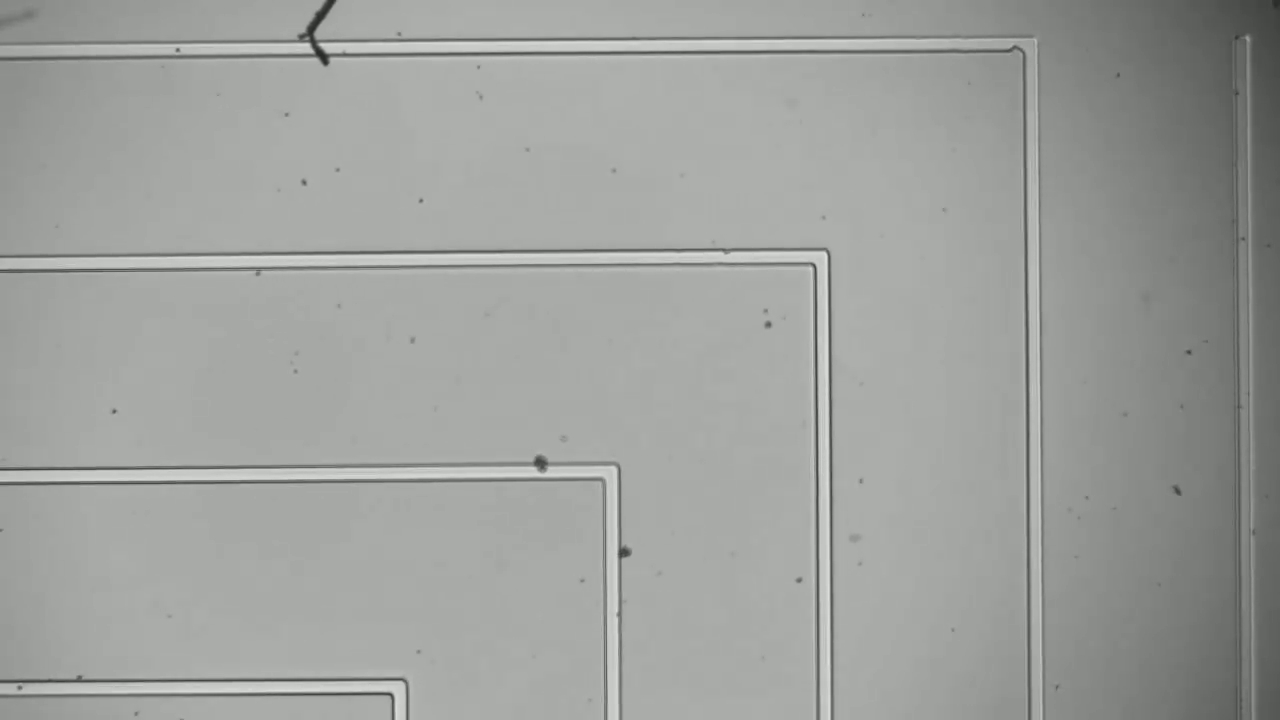edge_bite: (1000, 29, 1031, 58)
stains_enbedded: (527, 449, 558, 482)
